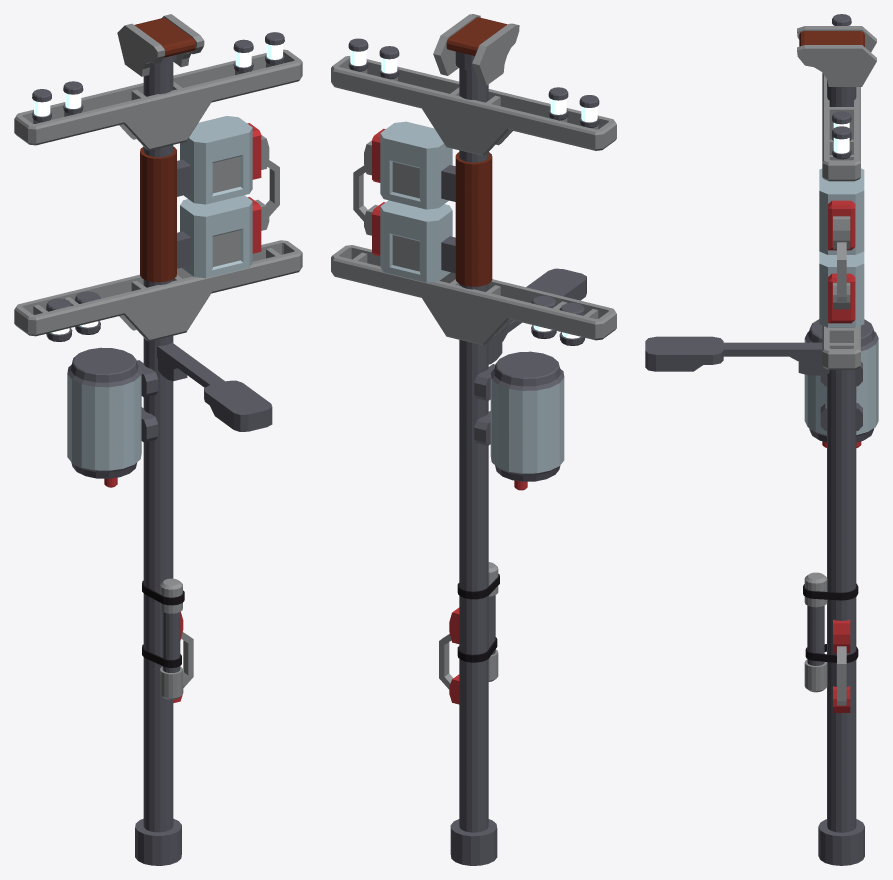
File: elPole_01.glb
3 renders of one model, left to right at view 1: azimuth 30°, elevation 25°; view 2: azimuth 150°, elevation 25°; view 3: azimuth 270°, elevation 25°, orthographic.
Visible parts, largest first — view 1: geometry_0, geometry_7; view 2: geometry_0, geometry_7; view 3: geometry_0.
Boxes of the visible parts, left/top/right/bottom form: geometry_0: left=14, top=14, right=302, bottom=865; geometry_7: left=34, top=44, right=282, bottom=334; geometry_0: left=331, top=14, right=616, bottom=865; geometry_7: left=350, top=50, right=597, bottom=338; geometry_0: left=645, top=14, right=878, bottom=865.
Size of the model in its own units: 0.877 by 2.53 by 0.6538.
3 materials, 3 textured.
